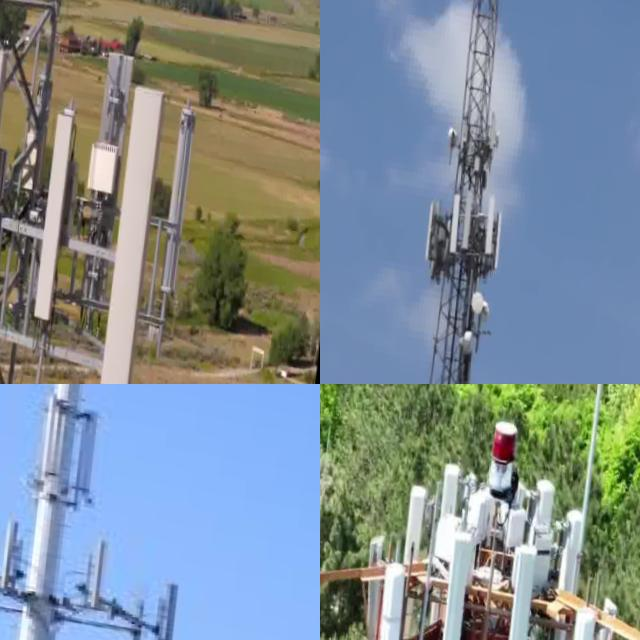GSM Antenna: (95, 69, 172, 384), (160, 62, 212, 315), (29, 98, 80, 324), (91, 38, 139, 213), (495, 509, 551, 640), (429, 507, 482, 640), (371, 550, 420, 640), (359, 525, 392, 635), (399, 472, 435, 563), (150, 566, 192, 640), (557, 581, 606, 640), (0, 507, 28, 595), (85, 526, 111, 607), (443, 178, 468, 255), (479, 189, 503, 263), (438, 450, 463, 519), (460, 177, 480, 247)
Microwave Antenna: (470, 280, 490, 310), (446, 113, 460, 145), (461, 323, 476, 349), (481, 292, 496, 318), (495, 121, 503, 142)
